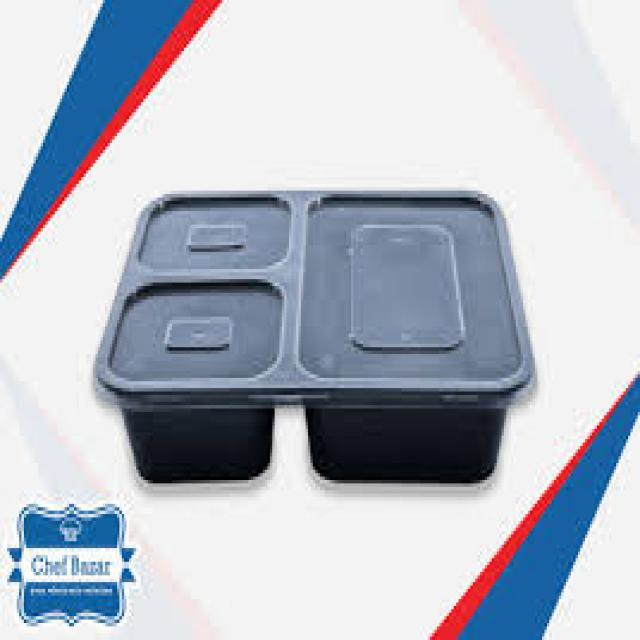disposable: (101, 163, 549, 500)
